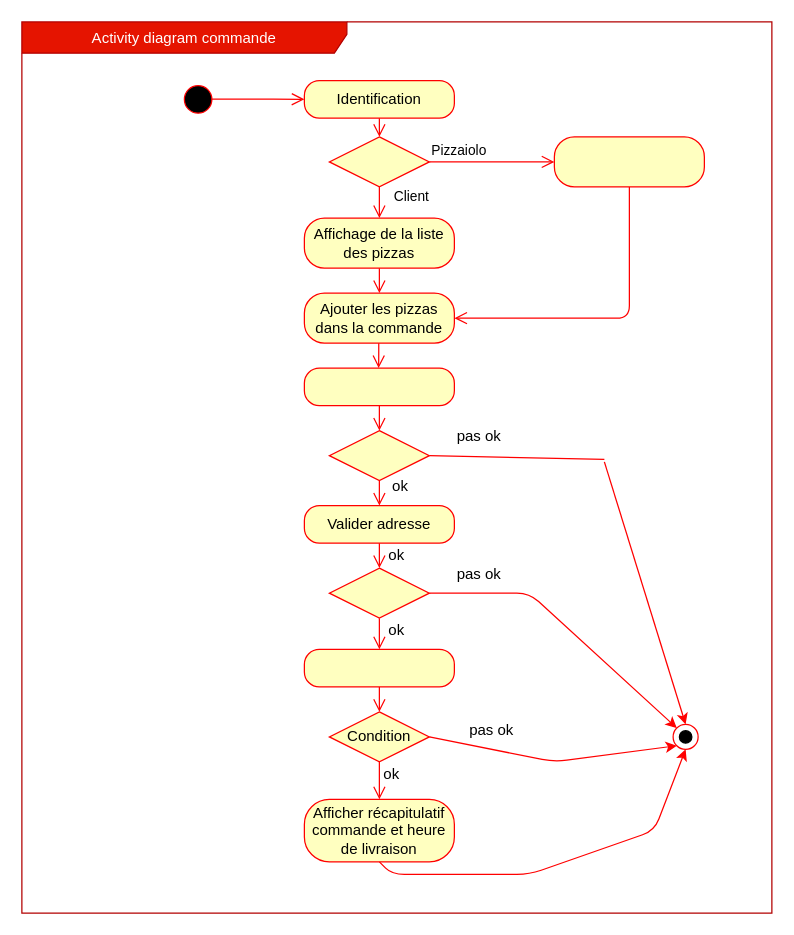
Some shapes in this 794 by 935 pixel diagram are drawn without their labels. Here are the shapes that lost their labels. From the top down, the centre of each, then its label:
At point (628, 161): "Sélection client".
At point (378, 386): "Valider la commande".
At point (378, 667): "Valider le paiement".
